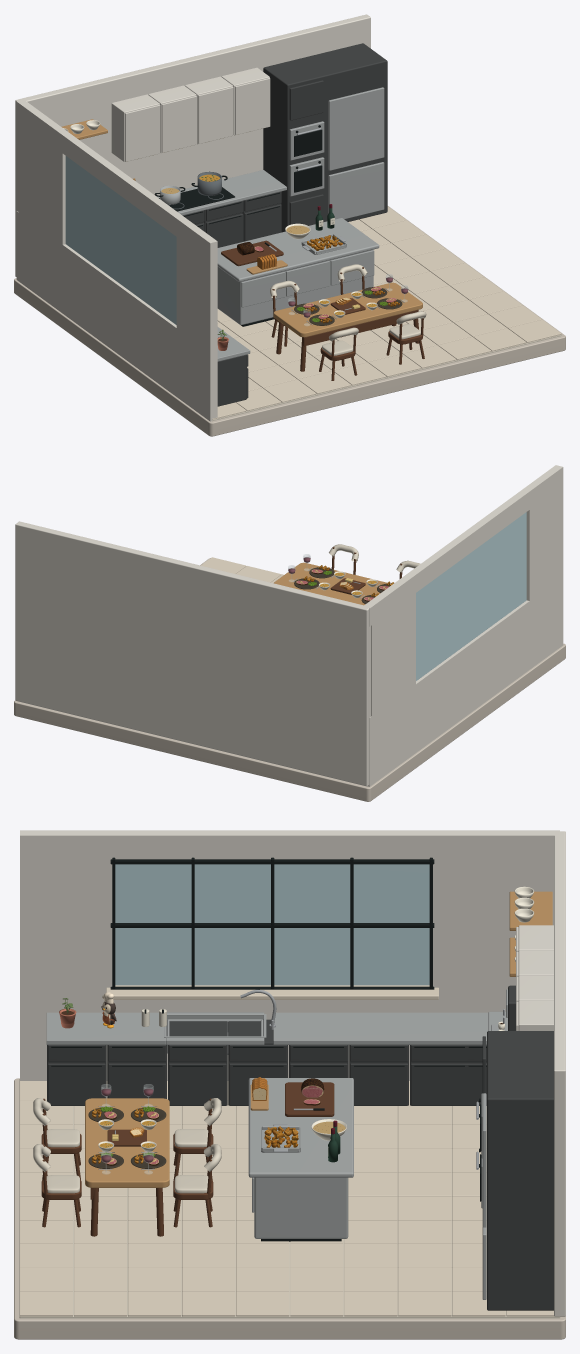
The model's file is sams-social-kitchen.glb.
The picture shows the model from 3 angles, top to bottom: view 1: azimuth 30°, elevation 25°; view 2: azimuth 150°, elevation 25°; view 3: azimuth 270°, elevation 25°; orthographic projection. The views are drawn at different scales.
Parts seen in each view (by area): view 1: Sam's social-kitchen; view 2: Sam's social-kitchen; view 3: Sam's social-kitchen.
Part boxes in pixels (<box>): Sam's social-kitchen: <box>14,14,565,436</box>; Sam's social-kitchen: <box>14,465,565,801</box>; Sam's social-kitchen: <box>14,830,565,1339</box>.
Bounding box in the file's own units: 7.6 × 3.91 × 7.3.
